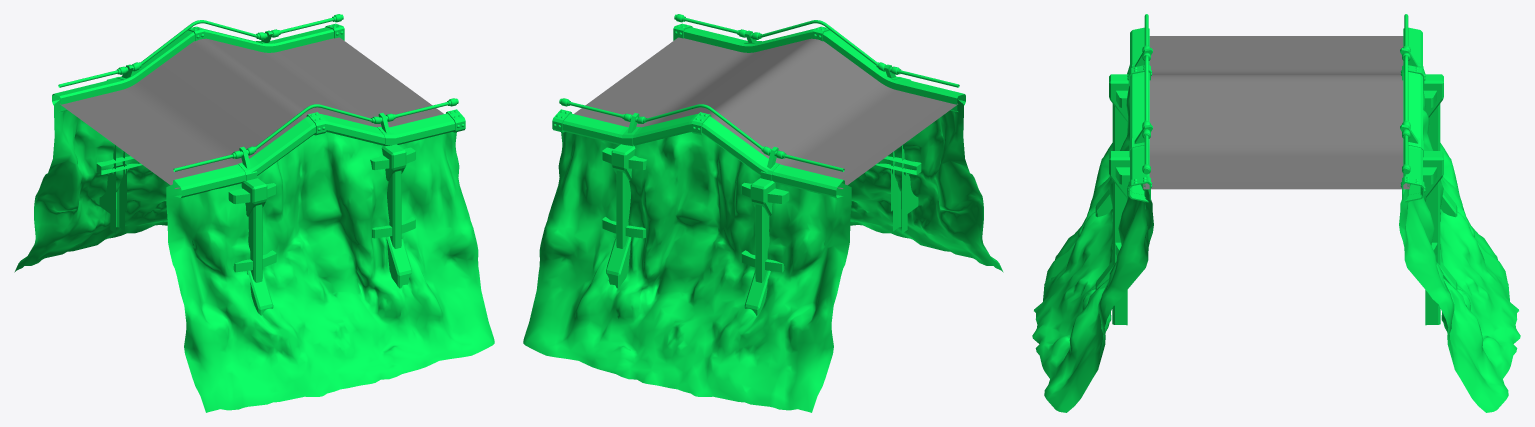
File: Track_04.fbx
3 views of the same model, side by side, from view 1: azimuth 30°, elevation 25°; view 2: azimuth 150°, elevation 25°; view 3: azimuth 270°, elevation 25° (orthographic). The views are drawn at different scales.
Visible parts, largest first — view 1: Side_Rock_005, Road_005; view 2: Side_Rock_005, Road_005; view 3: Side_Rock_005, Road_005.
Part boxes in pixels (x1,y1,x2,y2): Side_Rock_005: (14,14,494,412); Road_005: (60,37,443,188); Side_Rock_005: (523,14,1003,412); Road_005: (574,37,957,188); Side_Rock_005: (1032,14,1520,412); Road_005: (1143,36,1409,189).
Size of what is drawn, in the model's own units: 3159 by 4039 by 2529.
